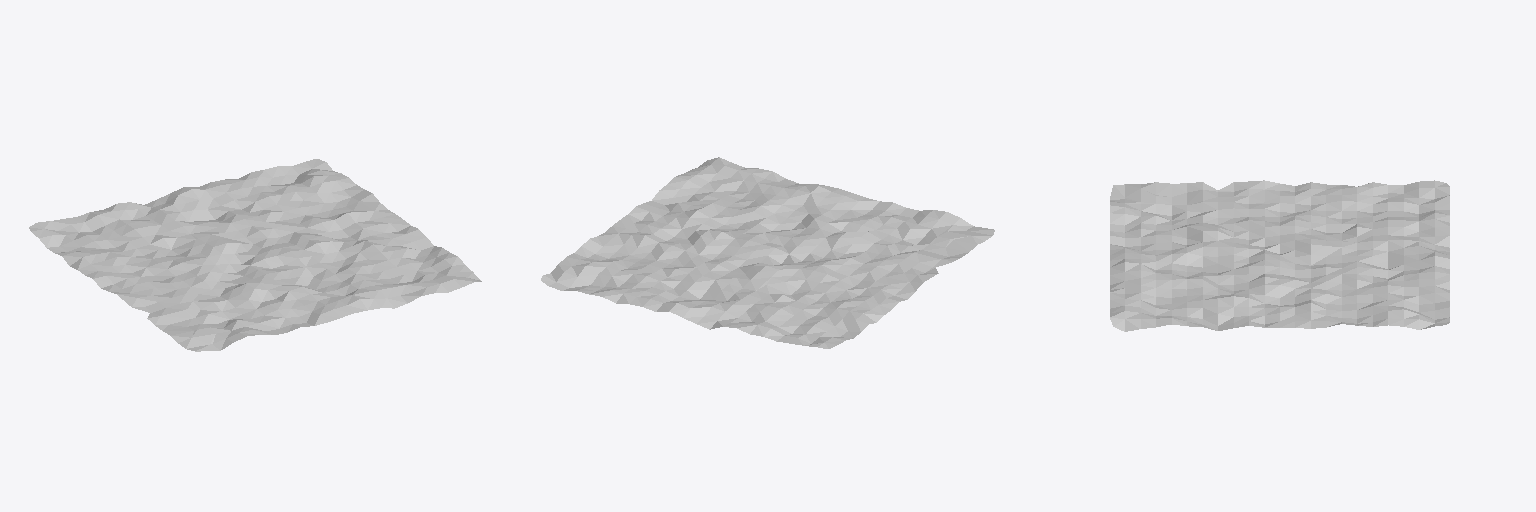
Rendered from areia3.obj.
3 renders of one model, left to right at view 1: azimuth 30°, elevation 25°; view 2: azimuth 150°, elevation 25°; view 3: azimuth 270°, elevation 25°, orthographic.
Visible parts, largest first — view 1: Sol_Plane.001; view 2: Sol_Plane.001; view 3: Sol_Plane.001.
Part boxes in pixels (x1,y1,x2,y2): Sol_Plane.001: (29, 159, 481, 351); Sol_Plane.001: (541, 157, 994, 348); Sol_Plane.001: (1110, 180, 1449, 331).
Bounding box in the file's own units: 17.4 × 0.7948 × 17.4.